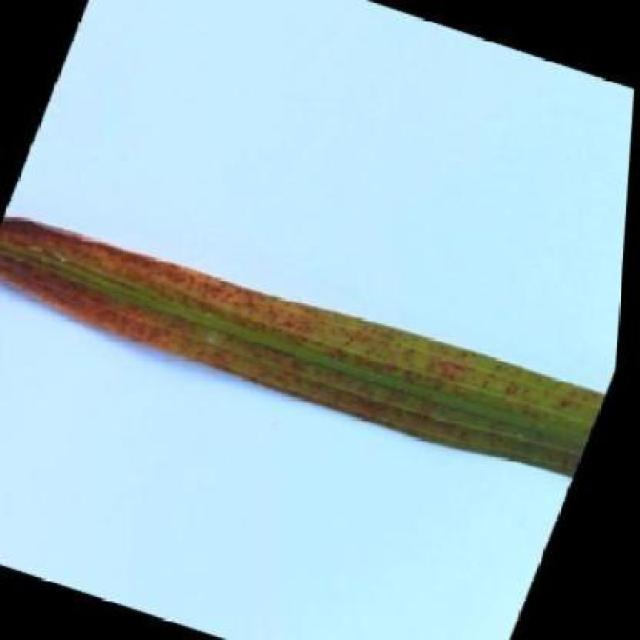Rice False Smut: (0, 196, 623, 495)
